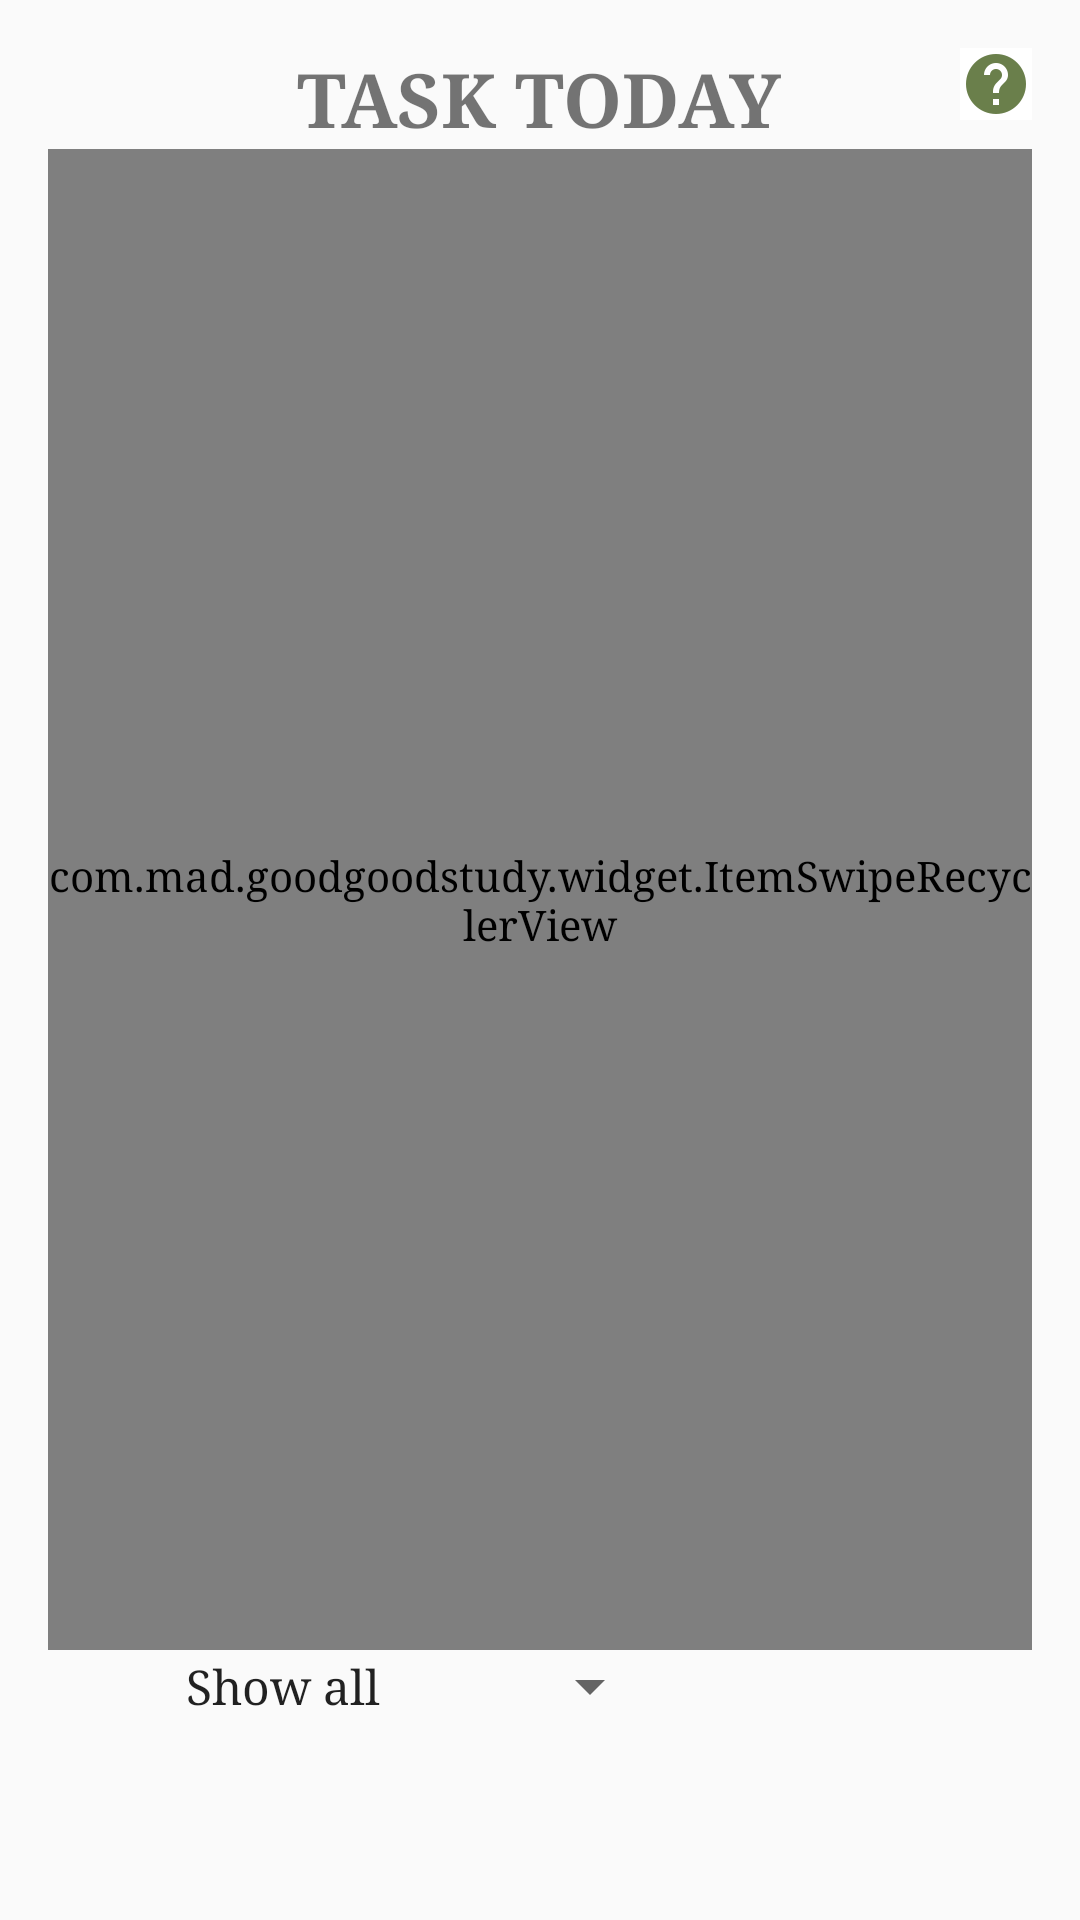

Named icons in this screenshot (1080px×1920px) and their bounding boxes, (x1, y1, x2, y2):
help: (966, 54, 1026, 114)
